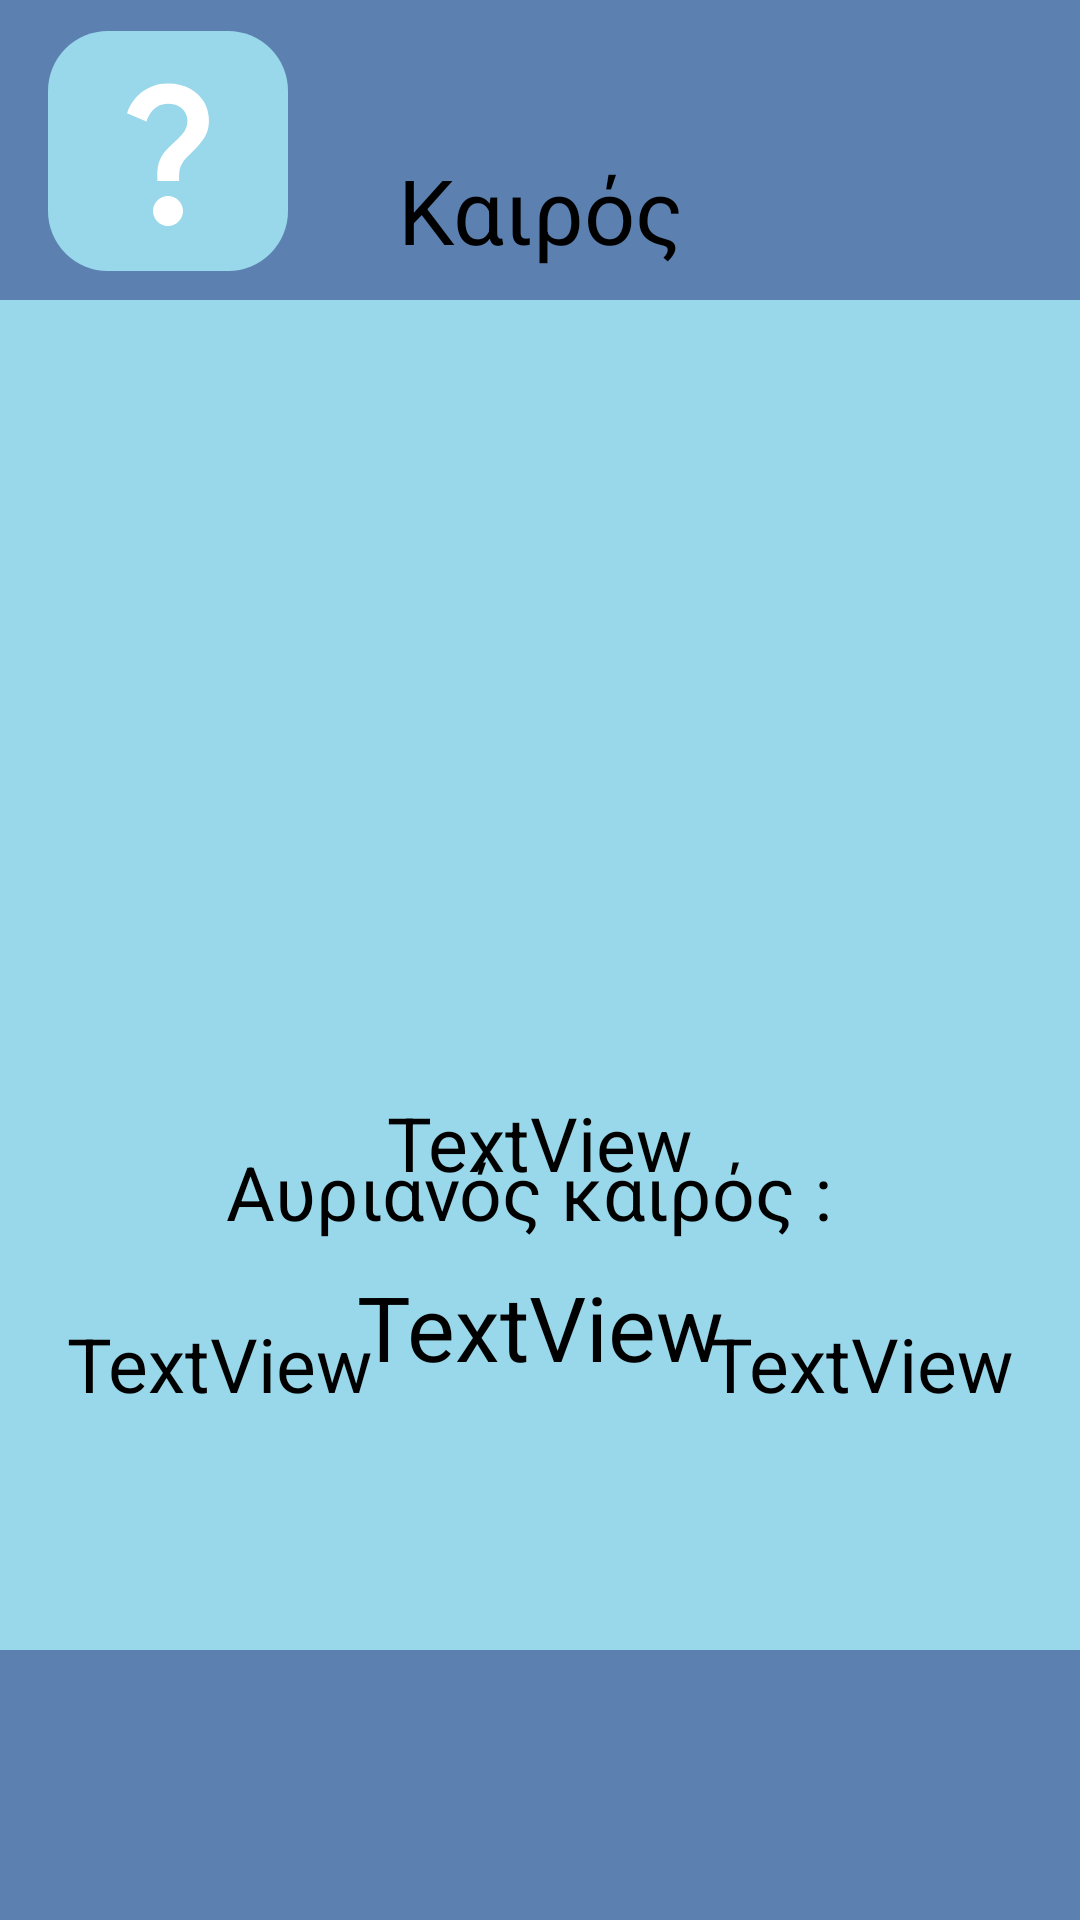

Screen size 1080 × 1920. Icon name, then its center in pixels as point (x, y):
question mark: point (168, 151)
